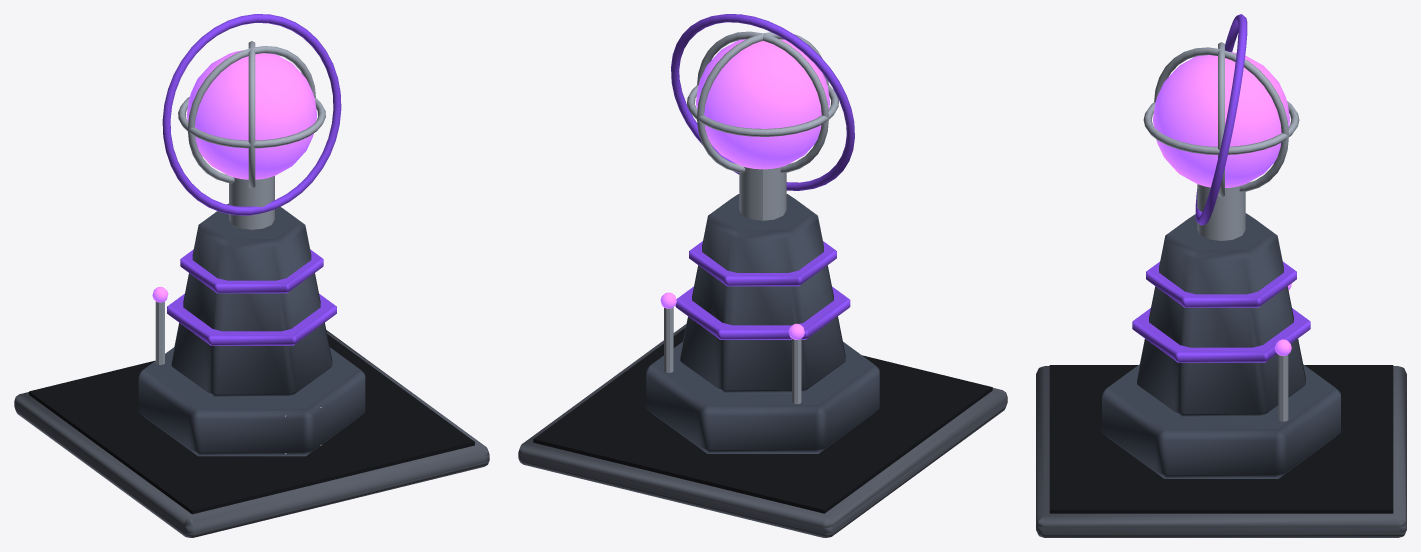
File: cloudfront.glb
The picture shows the model from 3 angles, left to right: view 1: azimuth 30°, elevation 25°; view 2: azimuth 150°, elevation 25°; view 3: azimuth 270°, elevation 25°; orthographic projection. The views are drawn at different scales.
Parts seen in each view (by area): view 1: body.steel, body.rubber, body.concrete, spin_globe.accent_glow, body.accent, spin_globe.steel_light, body.steel_light; view 2: body.steel, body.rubber, body.concrete, spin_globe.accent_glow, body.accent, spin_globe.steel_light, body.steel_light; view 3: body.steel, body.rubber, body.concrete, spin_globe.accent_glow, body.accent, spin_globe.steel_light, body.steel_light.
Boxes of the visible parts, bbox=[...] form: body.steel: bbox=[138, 203, 365, 456]; body.rubber: bbox=[29, 334, 474, 514]; body.concrete: bbox=[14, 330, 489, 537]; spin_globe.accent_glow: bbox=[186, 50, 317, 179]; body.accent: bbox=[162, 14, 341, 345]; spin_globe.steel_light: bbox=[178, 41, 325, 188]; body.steel_light: bbox=[155, 176, 274, 364]; body.steel: bbox=[646, 194, 879, 453]; body.rubber: bbox=[533, 328, 992, 513]; body.concrete: bbox=[518, 324, 1007, 537]; spin_globe.accent_glow: bbox=[696, 39, 829, 169]; body.accent: bbox=[671, 14, 854, 339]; spin_globe.steel_light: bbox=[687, 31, 838, 172]; body.steel_light: bbox=[664, 167, 801, 403]; body.steel: bbox=[1102, 213, 1340, 478]; body.rubber: bbox=[1049, 365, 1393, 513]; body.concrete: bbox=[1036, 366, 1406, 537]; spin_globe.accent_glow: bbox=[1153, 52, 1289, 187]; body.accent: bbox=[1132, 14, 1310, 362]; spin_globe.steel_light: bbox=[1143, 42, 1299, 197]; body.steel_light: bbox=[1197, 184, 1288, 421].
Size of the model in its own units: 1.08 by 1.41 by 1.08.
